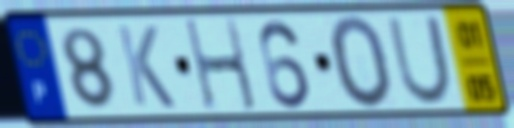6: (255, 15, 312, 112)
8: (57, 25, 120, 111)
H: (181, 16, 261, 114)
K: (113, 22, 179, 111)
O: (326, 12, 396, 112)
U: (384, 13, 456, 108)
